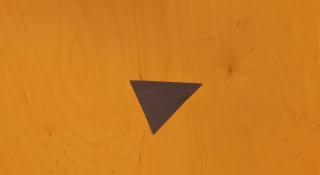Triangle: (129, 80, 203, 135)
